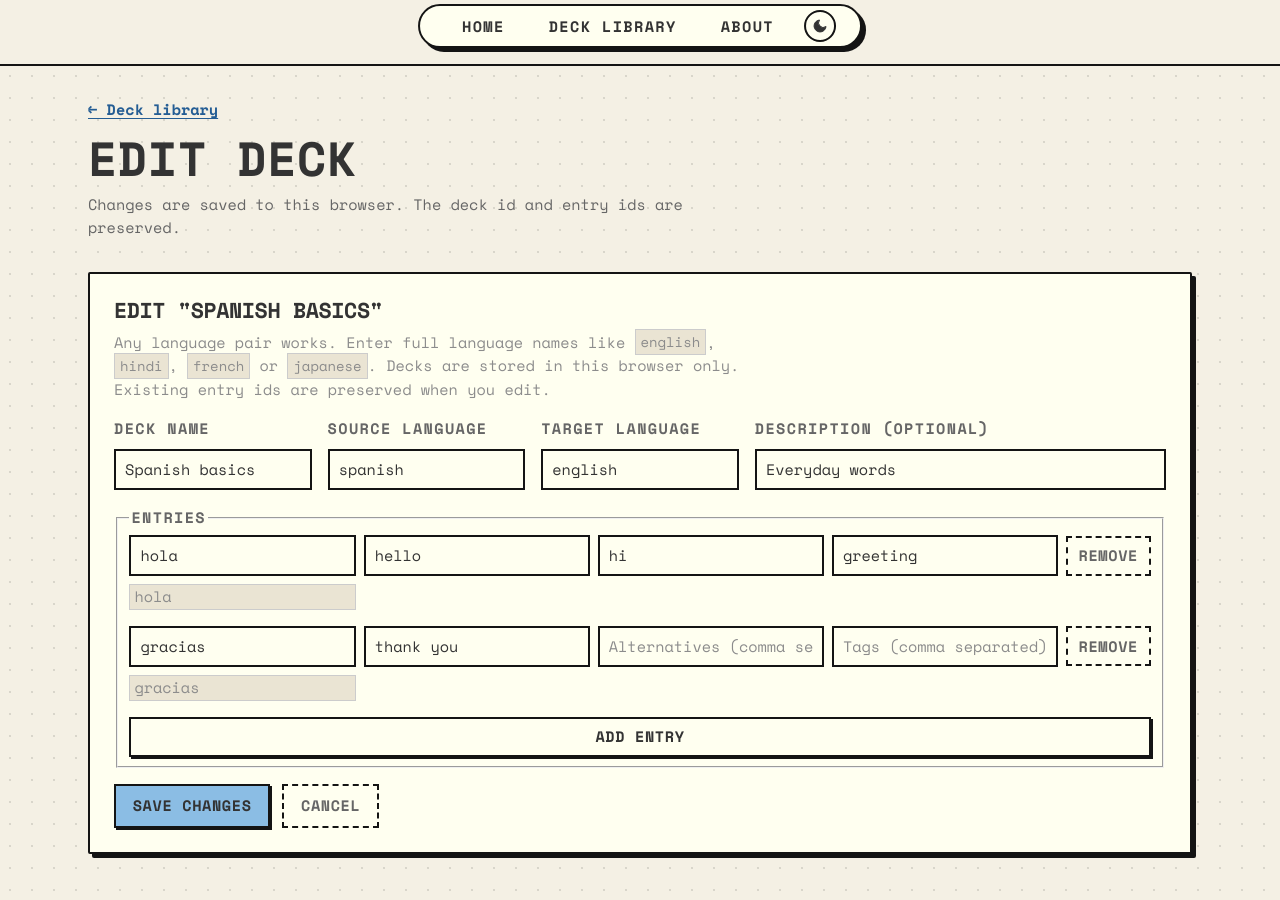
Test: custom deck creation and editing › renaming a deck does not change its id
Type "Renamed" into the field labelled "Deck name".
click(213, 470); type("Renamed")  # box [114,449,312,490]
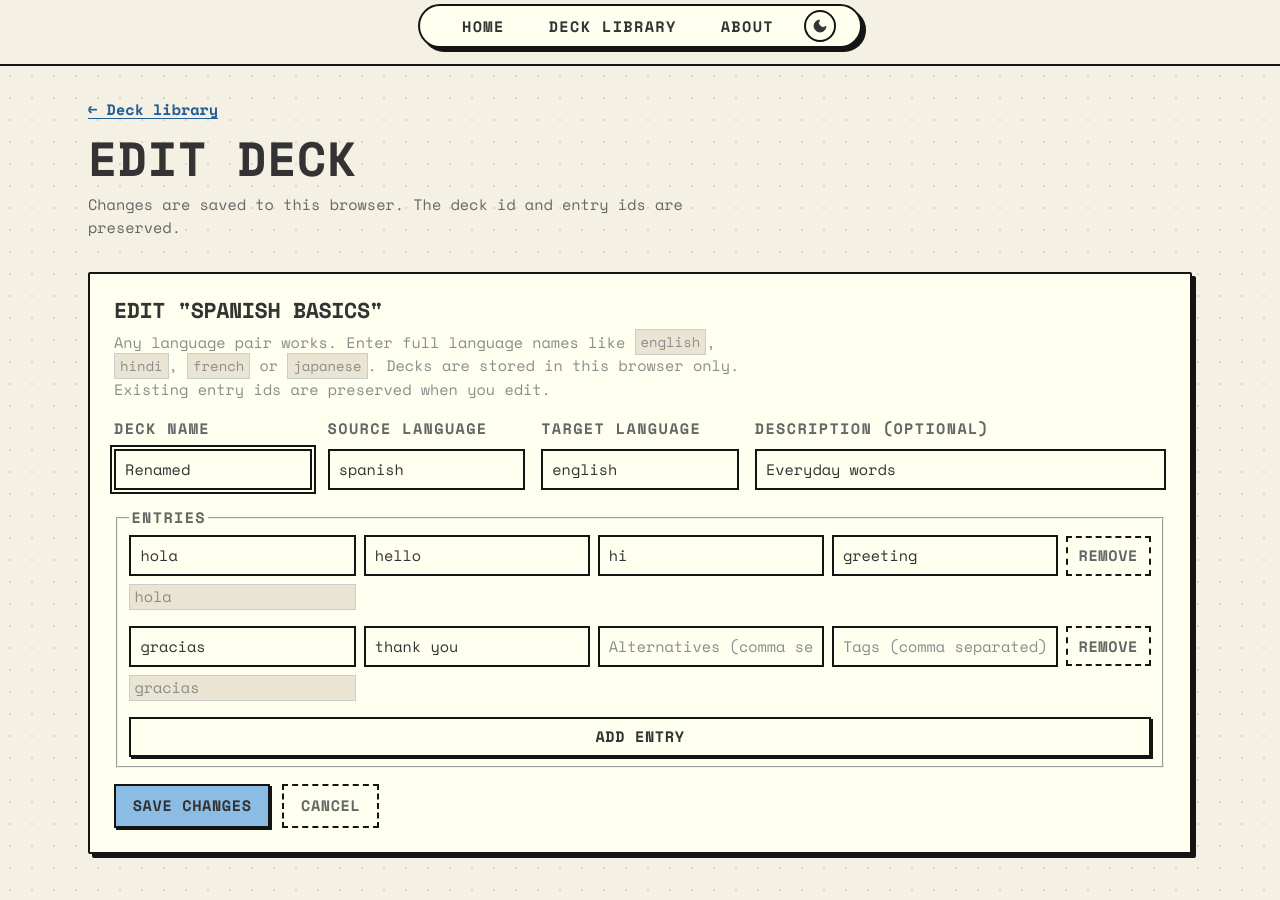
Click the button "Save changes".
click(192, 806)  # box [114,784,270,828]
(page scrolled)
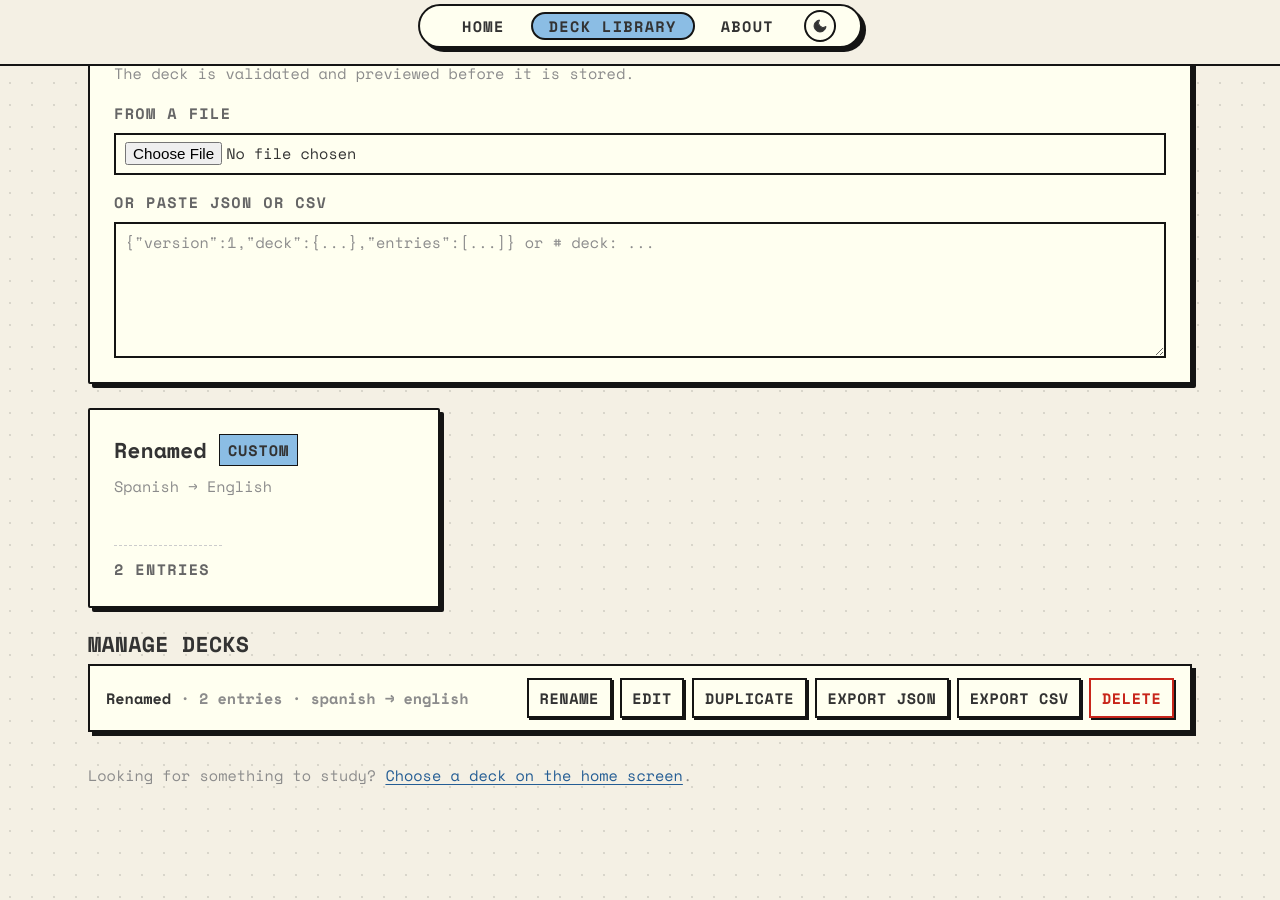
Check: the text "Renamed" is shown, box [114,434,206,467]
